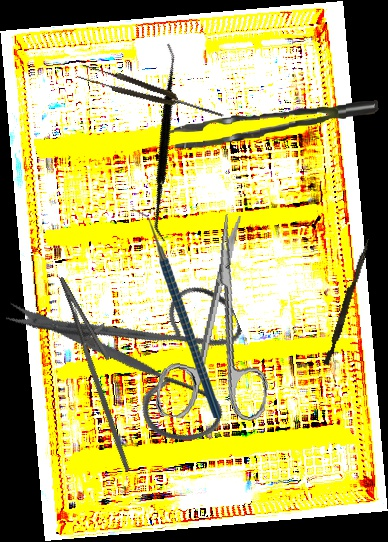Chopper: (132, 208, 221, 418)
Iris Scissors: (1, 226, 273, 488), (153, 207, 292, 430)
Needle Holder: (35, 268, 168, 473)
Pusher: (323, 237, 371, 366)
Spatula Surgical: (80, 41, 253, 243)
Tissue Forceps: (169, 100, 380, 149), (76, 61, 227, 126)
